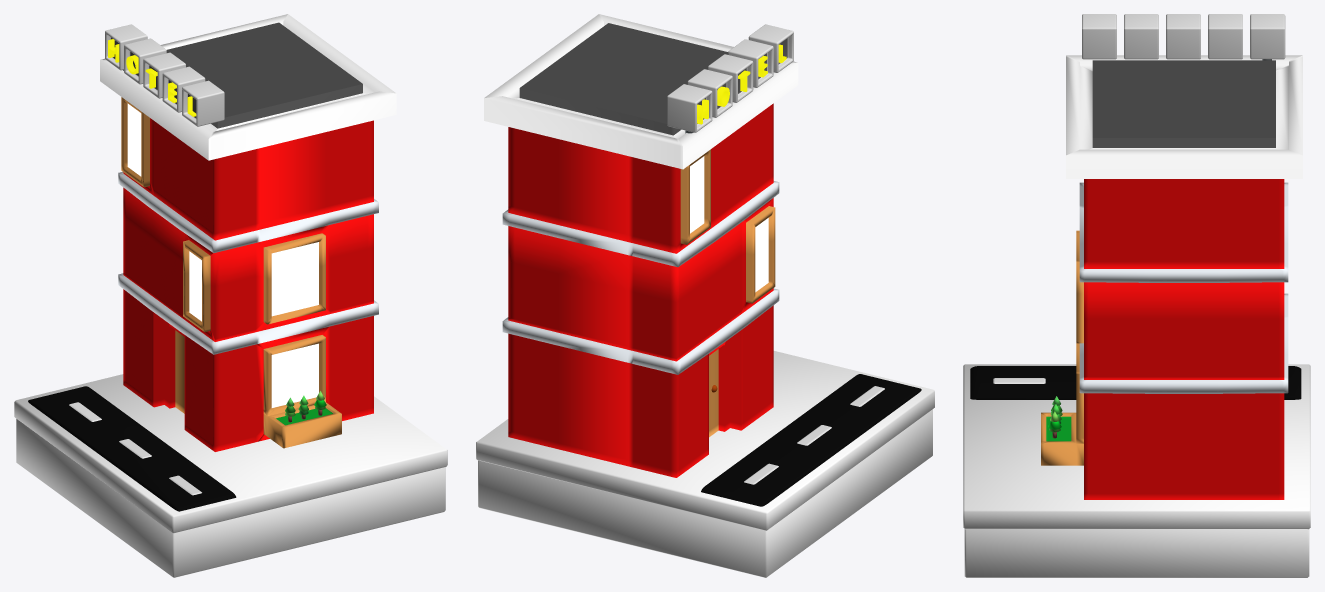
The model's file is ooomagab.glb.
The picture shows the model from 3 angles, left to right: view 1: azimuth 30°, elevation 25°; view 2: azimuth 150°, elevation 25°; view 3: azimuth 270°, elevation 25°; orthographic projection. The views are drawn at different scales.
Parts seen in each view (by area): view 1: Plane, Cube.001, Plane.001, Cube, Plane.002, Cube.003, Cube.002; view 2: Plane, Plane.001, Cube, Cube.001, Plane.002, Cube.003, Cube.002; view 3: Plane, Plane.001, Cube.001, Cube, Cube.003, Plane.002.
Part boxes in pixels (x1,y1,x2,y2): Plane: (118, 97, 378, 451); Cube.001: (14, 374, 447, 533); Plane.001: (100, 14, 396, 160); Cube: (16, 419, 445, 577); Plane.002: (28, 386, 236, 511); Cube.003: (105, 24, 224, 126); Cube.002: (69, 402, 201, 495); Plane: (502, 103, 779, 477); Plane.001: (484, 14, 798, 169); Cube: (478, 409, 932, 577); Cube.001: (476, 351, 934, 530); Plane.002: (701, 374, 921, 506); Cube.003: (667, 24, 793, 132); Cube.002: (744, 386, 884, 484); Plane: (1041, 179, 1288, 499); Plane.001: (1066, 55, 1302, 178); Cube.001: (963, 364, 1310, 529); Cube: (964, 529, 1309, 577); Cube.003: (1082, 14, 1285, 59); Plane.002: (970, 366, 1301, 399).
Bounding box in the file's own units: 5.26 × 7.7 × 5.26.
